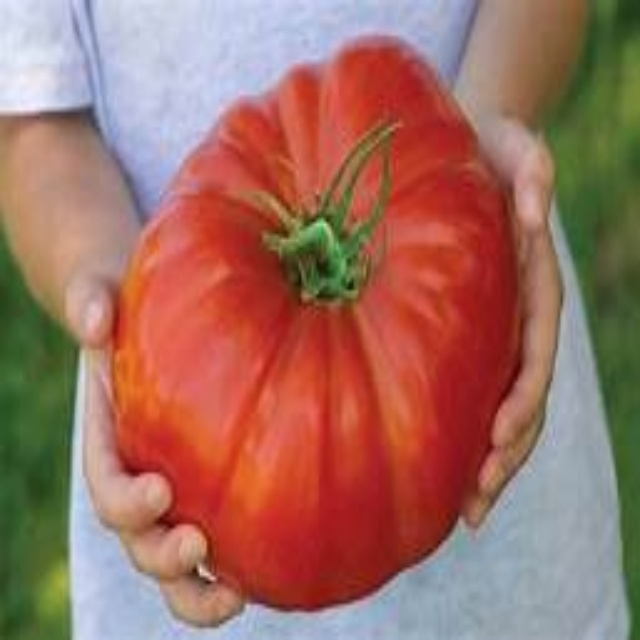tomato: (114, 41, 525, 615)
